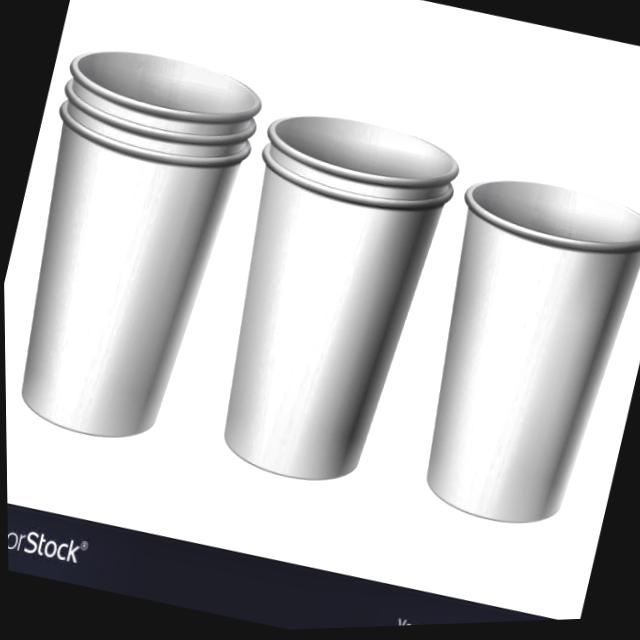Cup: (0, 30, 265, 460), (186, 99, 455, 509), (387, 156, 640, 550)
